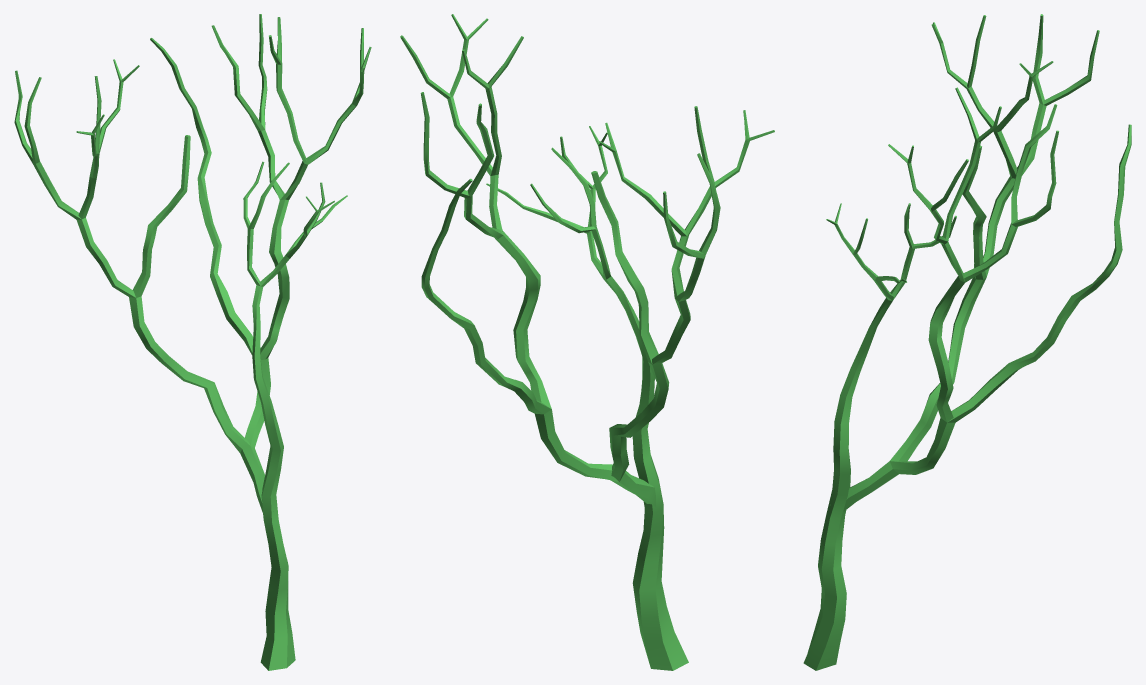
The model's file is jungle_wiggle_tree_A.fbx.
3 renders of one model, left to right at view 1: azimuth 30°, elevation 25°; view 2: azimuth 150°, elevation 25°; view 3: azimuth 270°, elevation 25°, orthographic. The views are drawn at different scales.
Visible parts, largest first — view 1: jungle_wiggle_tree_A; view 2: jungle_wiggle_tree_A; view 3: jungle_wiggle_tree_A.
Boxes of the visible parts, x1,y1,x2,y2 form: jungle_wiggle_tree_A: (14,14,371,670); jungle_wiggle_tree_A: (400,14,774,670); jungle_wiggle_tree_A: (803,14,1131,670).
Size of the model in its own units: 454 by 805 by 396.
